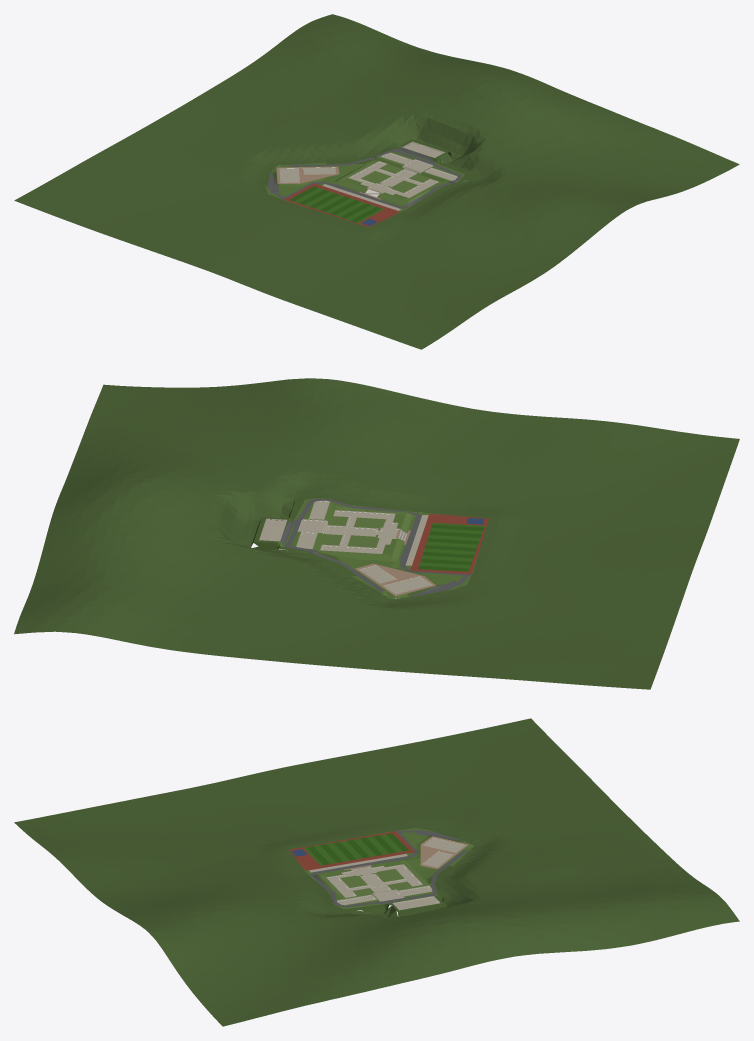
3 renders of one model, top to bottom at view 1: azimuth 30°, elevation 25°; view 2: azimuth 150°, elevation 25°; view 3: azimuth 270°, elevation 25°, orthographic. The views are drawn at different scales.
Parts seen in each view (by area): view 1: ground_context-estimated, surface_school-ground, surface_sports-field, surface_track; view 2: ground_context-estimated, surface_school-ground, surface_sports-field, surface_track, surface_hill-back, surface_annex-plaza; view 3: ground_context-estimated, surface_school-ground, surface_sports-field, surface_track, surface_hill-back.
Part boxes in pixels (x1,y1,x2,y2): ground_context-estimated: (14, 14, 739, 349); surface_school-ground: (264, 146, 464, 214); surface_sports-field: (290, 186, 381, 222); surface_track: (284, 183, 400, 227); ground_context-estimated: (14, 378, 739, 689); surface_school-ground: (277, 498, 478, 598); surface_sports-field: (418, 524, 484, 571); surface_track: (410, 513, 488, 574); surface_hill-back: (250, 492, 329, 547); surface_annex-plaza: (355, 563, 436, 596); ground_context-estimated: (14, 718, 739, 1026); surface_school-ground: (301, 828, 474, 909); surface_sports-field: (307, 833, 408, 864); surface_track: (289, 831, 415, 870); surface_hill-back: (329, 896, 446, 916).
Size of the model in its own units: 969 by 69.05 by 969.
Materials: 12 (12 with a texture image).
